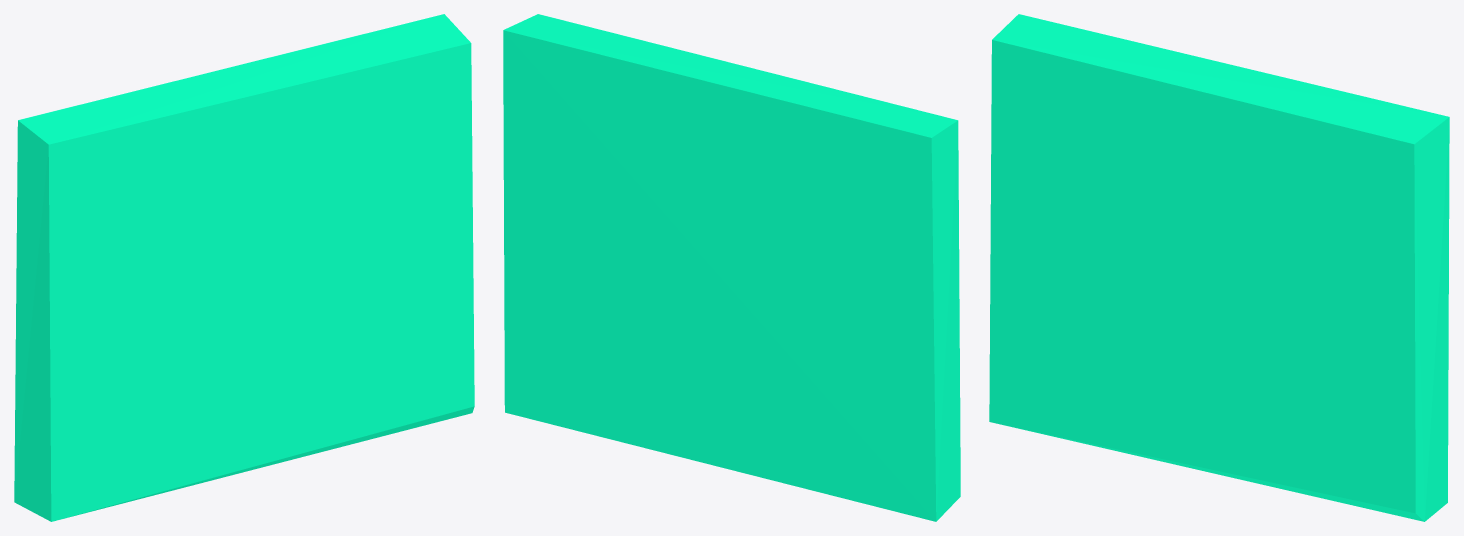
File: bassorilievo_t.glb
3 renders of one model, left to right at view 1: azimuth 30°, elevation 25°; view 2: azimuth 150°, elevation 25°; view 3: azimuth 330°, elevation 25°, orthographic.
Size of the model in its own units: 0.8848 by 0.7506 by 0.1148.
